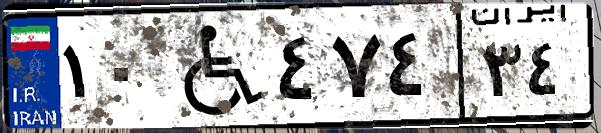0: (110, 28, 158, 98)
1: (57, 26, 110, 100)
3: (475, 38, 525, 113)
4: (270, 28, 330, 110), (385, 28, 445, 110), (525, 38, 570, 115)
7: (330, 28, 385, 110)
ژ (معلولین و جانبازان): (158, 12, 270, 120)
